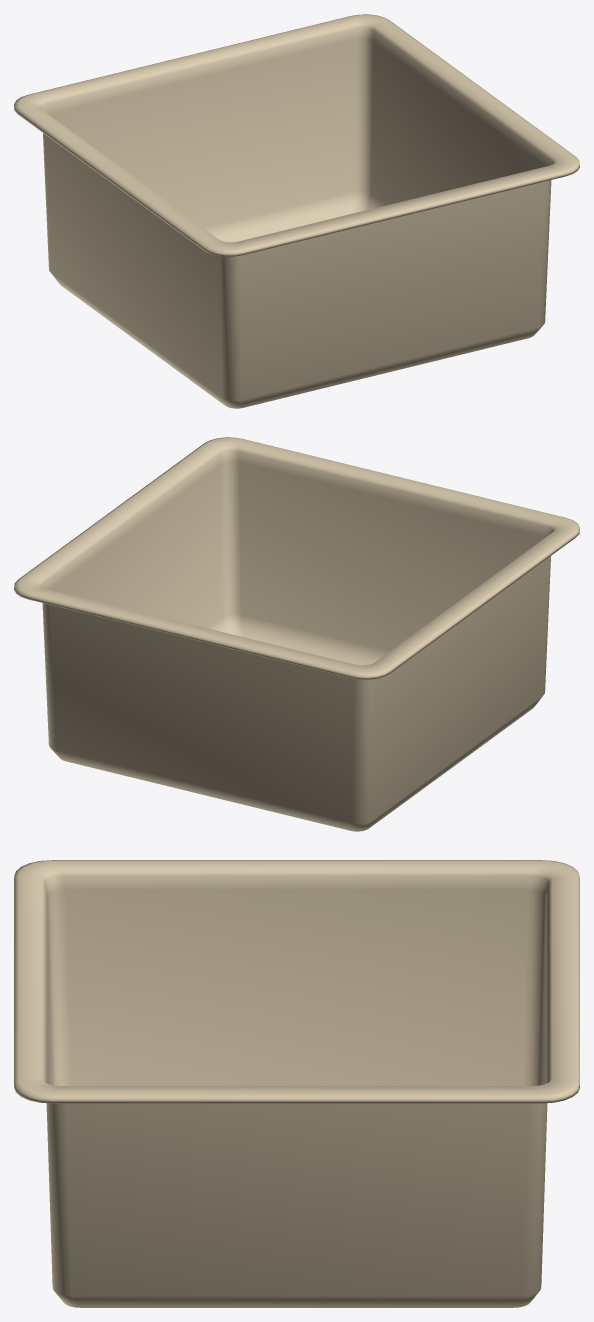
File: a_sink_sq_2.glb
3 renders of one model, top to bottom at view 1: azimuth 30°, elevation 25°; view 2: azimuth 150°, elevation 25°; view 3: azimuth 270°, elevation 25°, orthographic. The views are drawn at different scales.
Visible parts, largest first — view 1: o; view 2: o; view 3: o.
Part boxes in pixels (x1,y1,x2,y2): o: (14,14,579,408); o: (14,437,579,831); o: (14,860,579,1307).
Bounding box in the file's own units: 0.4424 × 0.2112 × 0.4424.
